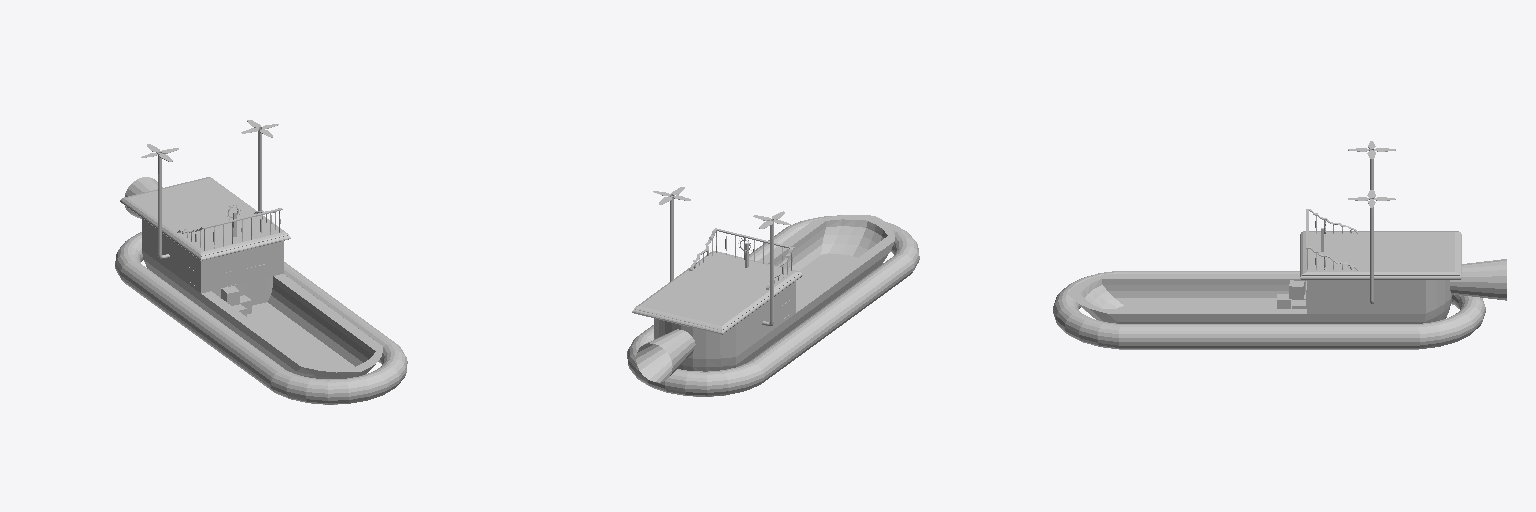
Rendered from tinyboat.obj.
The picture shows the model from 3 angles: view 1: azimuth 30°, elevation 25°; view 2: azimuth 150°, elevation 25°; view 3: azimuth 270°, elevation 25°; orthographic projection.
Parts seen in each view (by area): view 1: pCube49, pPipe3, pPipe5; view 2: pCube49, pPipe3, pPipe5; view 3: pCube49, pPipe3, pPipe5.
Boxes of the visible parts, x1=… form: pCube49: x1=120, y1=177, x2=382, y2=378; pPipe3: x1=115, y1=120, x2=407, y2=404; pPipe5: x1=177, y1=205, x2=282, y2=316; pCube49: x1=632, y1=215, x2=894, y2=371; pPipe3: x1=627, y1=187, x2=919, y2=396; pPipe5: x1=689, y1=228, x2=794, y2=320; pCube49: x1=1067, y1=231, x2=1461, y2=323; pPipe3: x1=1053, y1=141, x2=1506, y2=349; pPipe5: x1=1277, y1=209, x2=1357, y2=311.
Bounding box in the file's own units: 11.18 × 12.64 × 31.74.